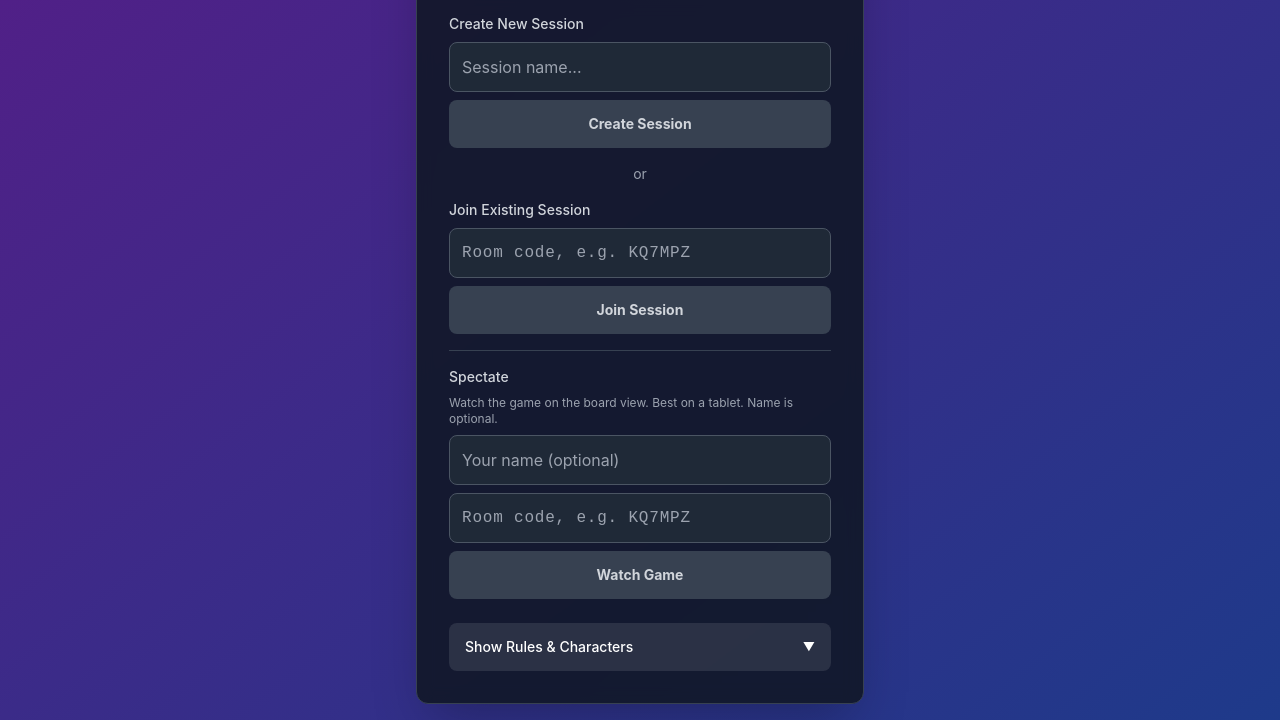
it: MainMenu › form validation (disabled buttons) › Watch Game button is enabled when spectate session ID is filled
(page scrolled)
In the field with placeholder "Room code, e.g. KQ7MPZ": coordinates (640, 518) top-left (449, 493), bottom-right (831, 543), type "some-id"
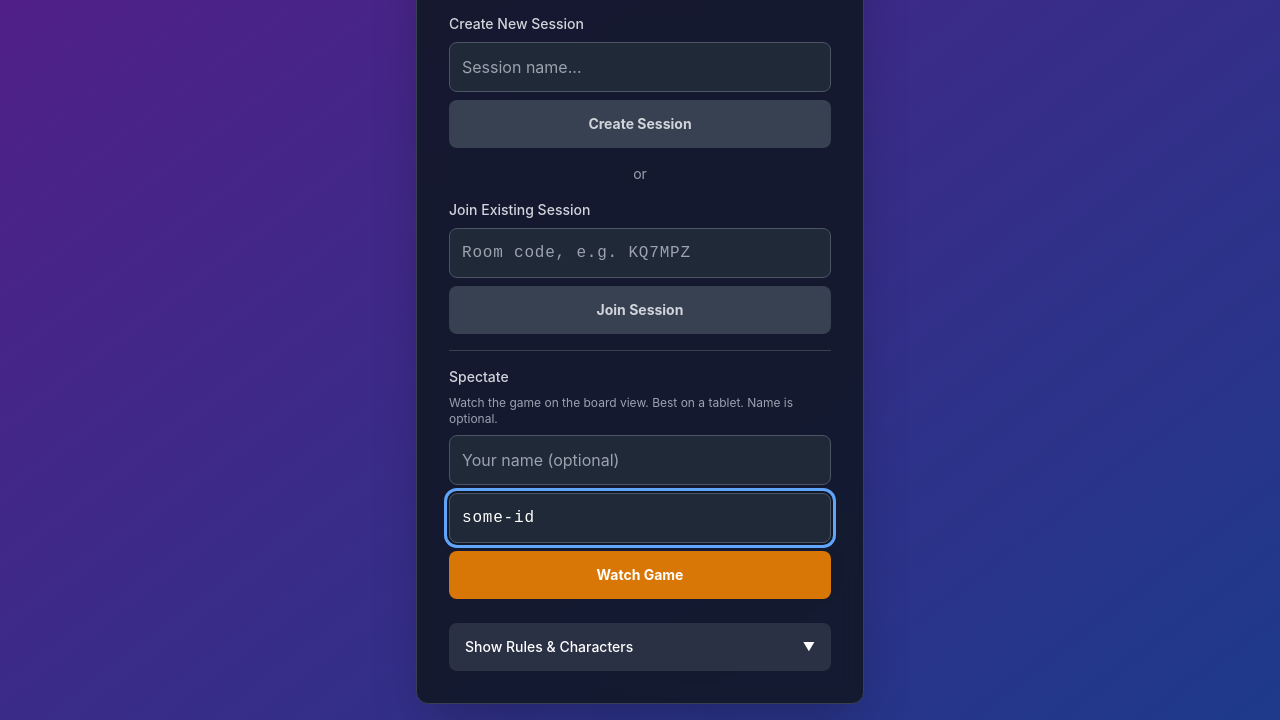
Expected: the button "Watch Game" is enabled, top-left (449, 551), bottom-right (831, 599)
